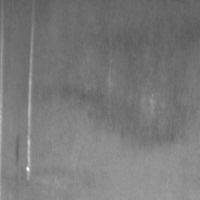scratches: (21, 24, 37, 184)
